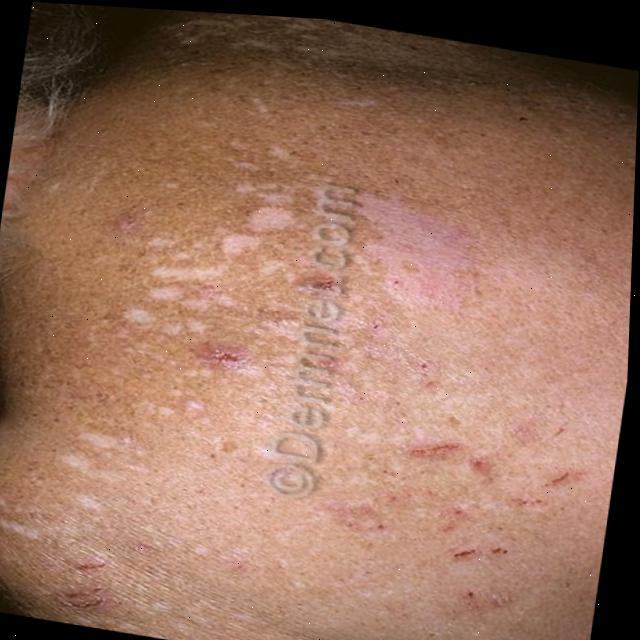Eczema: (54, 5, 632, 640)
